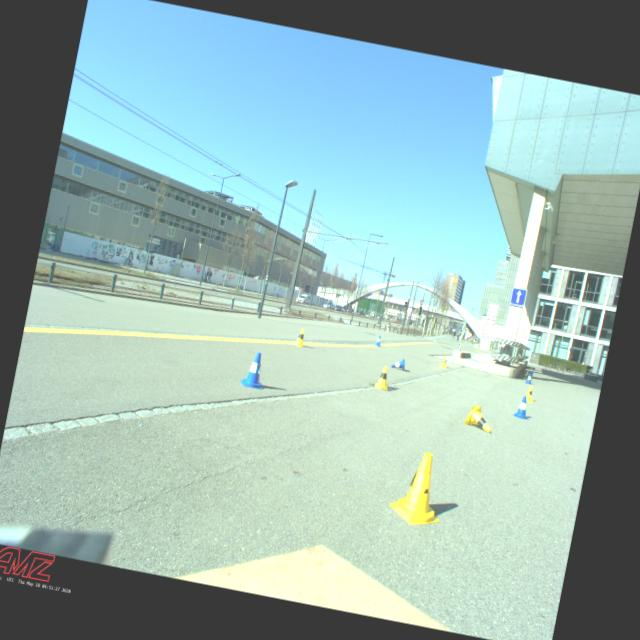blue_cone: (240, 350, 270, 390), (511, 394, 534, 420), (391, 356, 406, 372), (524, 373, 534, 385), (374, 335, 382, 347)
yellow_cone: (386, 448, 452, 530), (463, 404, 495, 433), (373, 365, 392, 390), (294, 328, 308, 348), (524, 385, 536, 403), (438, 356, 449, 368)
